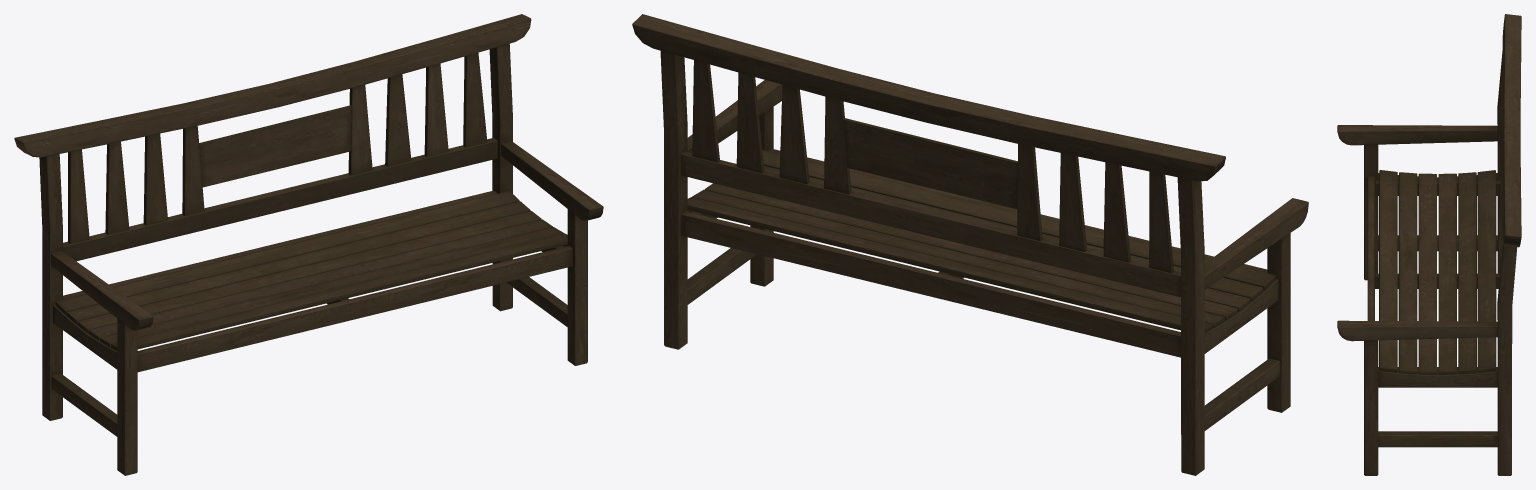
Rendered from bench-transformed.glb.
The picture shows the model from 3 angles, left to right: view 1: azimuth 30°, elevation 25°; view 2: azimuth 150°, elevation 25°; view 3: azimuth 270°, elevation 25°; orthographic projection. The views are drawn at different scales.
Parts seen in each view (by area): view 1: pasted__polySurface45, polySurface51, pasted__polySurface29, pasted__polySurface18; view 2: pasted__polySurface45, polySurface51, pasted__polySurface29, pasted__polySurface18; view 3: polySurface51, pasted__polySurface45, pasted__polySurface29, polySurface53.
Boxes of the visible parts, x1,y1,x2,y2 form: pasted__polySurface45: (14,14,603,436); polySurface51: (55,191,567,350); pasted__polySurface29: (39,43,587,475); pasted__polySurface18: (68,53,487,243); pasted__polySurface45: (632,14,1308,430); polySurface51: (687,150,1275,332); pasted__polySurface29: (660,51,1290,475); pasted__polySurface18: (692,60,1173,273); polySurface51: (1379,170,1496,374); pasted__polySurface45: (1337,14,1521,447); pasted__polySurface29: (1364,51,1517,475); polySurface53: (1375,180,1501,371).
Bounding box in the file's own units: 2.08 × 1.1 × 0.7323.
Materials: 1 (1 with a texture image).
